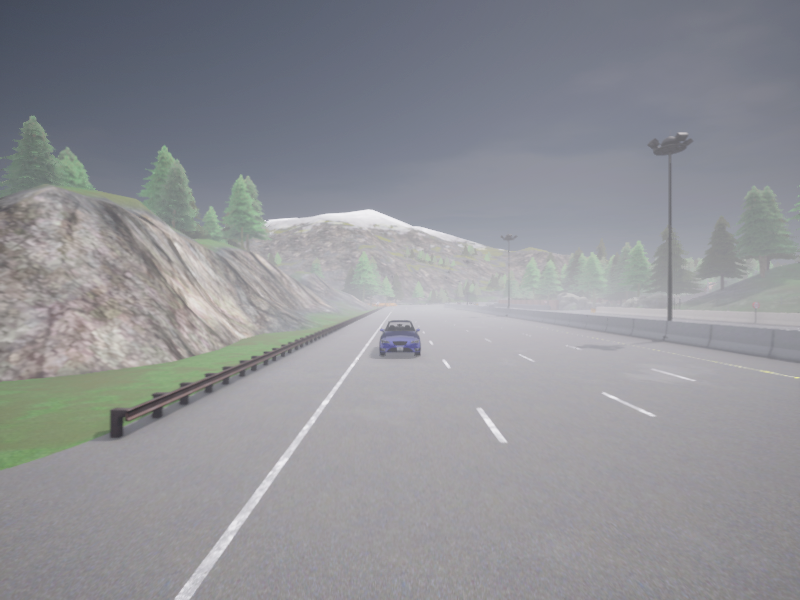vehicle: (379, 320, 420, 356), (484, 303, 493, 306), (474, 302, 478, 305), (456, 302, 460, 304), (470, 302, 473, 304)
